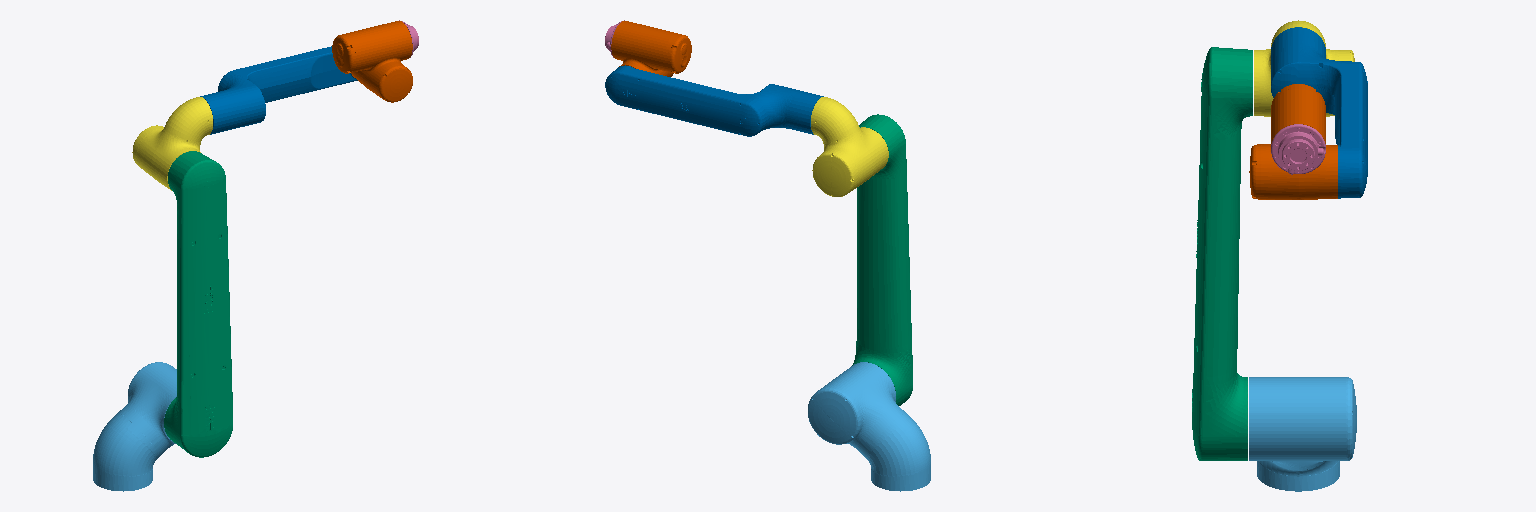
robot.urdf — CRB15000_10kg-152:
<?xml version="1.0" ?>
<robot name="CRB15000_10kg-152">

<link name="base_link">
  <inertial>
    <origin xyz="-0.0011656606666003504 -0.00011127786600189595 0.0985691713362607" rpy="0 0 0"/>
    <mass value="43.321834194728716"/>
    <inertia ixx="0.254824" iyy="0.26074" izz="0.191484" ixy="-0.000567" iyz="-0.000372" ixz="-0.003894"/>
  </inertial>
  <visual>
    <origin xyz="0 0 0" rpy="0 0 0"/>
    <geometry>
      <mesh filename="package://CRB15000_10kg-152_description/meshes/base_link.stl" scale="0.001 0.001 0.001"/>
    </geometry>
    <material name="silver"/>
  </visual>
  <collision>
    <origin xyz="0 0 0" rpy="0 0 0"/>
    <geometry>
      <mesh filename="package://CRB15000_10kg-152_description/meshes/base_link.stl" scale="0.001 0.001 0.001"/>
    </geometry>
  </collision>
</link>

<link name="link_1_1">
  <inertial>
    <origin xyz="0.08775396256753097 0.0028936166670680574 0.13782832227067018" rpy="0 0 0"/>
    <mass value="62.519803241843114"/>
    <inertia ixx="0.432284" iyy="0.648762" izz="0.530762" ixy="-0.011248" iyz="-0.008525" ixz="-0.212957"/>
  </inertial>
  <visual>
    <origin xyz="0.0 -0.0 -0.215" rpy="0 0 0"/>
    <geometry>
      <mesh filename="package://CRB15000_10kg-152_description/meshes/link_1_1.stl" scale="0.001 0.001 0.001"/>
    </geometry>
    <material name="silver"/>
  </visual>
  <collision>
    <origin xyz="0.0 -0.0 -0.215" rpy="0 0 0"/>
    <geometry>
      <mesh filename="package://CRB15000_10kg-152_description/meshes/link_1_1.stl" scale="0.001 0.001 0.001"/>
    </geometry>
  </collision>
</link>

<link name="link_2_1">
  <inertial>
    <origin xyz="2.8584459371705506e-07 -0.0543214282069112 0.31993968763231195" rpy="0 0 0"/>
    <mass value="70.93354798589783"/>
    <inertia ixx="4.564667" iyy="4.624738" izz="0.149368" ixy="0.0" iyz="-0.067787" ixz="1e-06"/>
  </inertial>
  <visual>
    <origin xyz="-0.15 0.09615 -0.400014" rpy="0 0 0"/>
    <geometry>
      <mesh filename="package://CRB15000_10kg-152_description/meshes/link_2_1.stl" scale="0.001 0.001 0.001"/>
    </geometry>
    <material name="silver"/>
  </visual>
  <collision>
    <origin xyz="-0.15 0.09615 -0.400014" rpy="0 0 0"/>
    <geometry>
      <mesh filename="package://CRB15000_10kg-152_description/meshes/link_2_1.stl" scale="0.001 0.001 0.001"/>
    </geometry>
  </collision>
</link>

<link name="link_3_1">
  <inertial>
    <origin xyz="0.012899148223606716 0.09273704088636267 0.024906939924447702" rpy="0 0 0"/>
    <mass value="26.381731962599385"/>
    <inertia ixx="0.135785" iyy="0.109627" izz="0.102204" ixy="0.002633" iyz="0.005085" ixz="-0.02496"/>
  </inertial>
  <visual>
    <origin xyz="-0.15 0.085 -1.107" rpy="0 0 0"/>
    <geometry>
      <mesh filename="package://CRB15000_10kg-152_description/meshes/link_3_1.stl" scale="0.001 0.001 0.001"/>
    </geometry>
    <material name="silver"/>
  </visual>
  <collision>
    <origin xyz="-0.15 0.085 -1.107" rpy="0 0 0"/>
    <geometry>
      <mesh filename="package://CRB15000_10kg-152_description/meshes/link_3_1.stl" scale="0.001 0.001 0.001"/>
    </geometry>
  </collision>
</link>

<link name="link_4_1">
  <inertial>
    <origin xyz="0.24242614990615624 0.06277136599398273 6.636508358415227e-07" rpy="0 0 0"/>
    <mass value="32.073735291819936"/>
    <inertia ixx="0.109076" iyy="0.893804" izz="0.956571" ixy="-0.193211" iyz="2e-06" ixz="1.3e-05"/>
  </inertial>
  <visual>
    <origin xyz="-0.246 0.0 -1.217" rpy="0 0 0"/>
    <geometry>
      <mesh filename="package://CRB15000_10kg-152_description/meshes/link_4_1.stl" scale="0.001 0.001 0.001"/>
    </geometry>
    <material name="silver"/>
  </visual>
  <collision>
    <origin xyz="-0.246 0.0 -1.217" rpy="0 0 0"/>
    <geometry>
      <mesh filename="package://CRB15000_10kg-152_description/meshes/link_4_1.stl" scale="0.001 0.001 0.001"/>
    </geometry>
  </collision>
</link>

<link name="link_5_1">
  <inertial>
    <origin xyz="-0.01459775541258479 -0.07956678438355705 0.04275435393134619" rpy="0 0 0"/>
    <mass value="23.637549891653943"/>
    <inertia ixx="0.089959" iyy="0.106455" izz="0.085161" ixy="0.001414" iyz="-0.004125" ixz="0.012973"/>
  </inertial>
  <visual>
    <origin xyz="-0.786883 -0.0755 -1.217" rpy="0 0 0"/>
    <geometry>
      <mesh filename="package://CRB15000_10kg-152_description/meshes/link_5_1.stl" scale="0.001 0.001 0.001"/>
    </geometry>
    <material name="silver"/>
  </visual>
  <collision>
    <origin xyz="-0.786883 -0.0755 -1.217" rpy="0 0 0"/>
    <geometry>
      <mesh filename="package://CRB15000_10kg-152_description/meshes/link_5_1.stl" scale="0.001 0.001 0.001"/>
    </geometry>
  </collision>
</link>

<link name="link_6_1">
  <inertial>
    <origin xyz="0.013150737690741043 0.00023981661745750953 -0.00034190626182106776" rpy="0 0 0"/>
    <mass value="1.1500367477208804"/>
    <inertia ixx="0.001012" iyy="0.000597" izz="0.0006" ixy="-1e-06" iyz="-5e-06" ixz="1e-06"/>
  </inertial>
  <visual>
    <origin xyz="-0.855 -0.0 -1.297" rpy="0 0 0"/>
    <geometry>
      <mesh filename="package://CRB15000_10kg-152_description/meshes/link_6_1.stl" scale="0.001 0.001 0.001"/>
    </geometry>
    <material name="silver"/>
  </visual>
  <collision>
    <origin xyz="-0.855 -0.0 -1.297" rpy="0 0 0"/>
    <geometry>
      <mesh filename="package://CRB15000_10kg-152_description/meshes/link_6_1.stl" scale="0.001 0.001 0.001"/>
    </geometry>
  </collision>
</link>

<joint name="j1" type="continuous">
  <origin xyz="0.0 0.0 0.215" rpy="0 0 0"/>
  <parent link="base_link"/>
  <child link="link_1_1"/>
  <axis xyz="0.0 0.0 -1.0"/>
</joint>

<joint name="j2" type="continuous">
  <origin xyz="0.15 -0.09615 0.185014" rpy="0 0 0"/>
  <parent link="link_1_1"/>
  <child link="link_2_1"/>
  <axis xyz="0.0 1.0 0.0"/>
</joint>

<joint name="j3" type="continuous">
  <origin xyz="0.0 0.01115 0.706986" rpy="0 0 0"/>
  <parent link="link_2_1"/>
  <child link="link_3_1"/>
  <axis xyz="0.0 -1.0 0.0"/>
</joint>

<joint name="j4" type="continuous">
  <origin xyz="0.096 0.085 0.11" rpy="0 0 0"/>
  <parent link="link_3_1"/>
  <child link="link_4_1"/>
  <axis xyz="1.0 0.0 0.0"/>
</joint>

<joint name="j5" type="continuous">
  <origin xyz="0.540883 0.0755 0.0" rpy="0 0 0"/>
  <parent link="link_4_1"/>
  <child link="link_5_1"/>
  <axis xyz="0.0 -1.0 0.0"/>
</joint>

<joint name="j6" type="continuous">
  <origin xyz="0.068117 -0.0755 0.08" rpy="0 0 0"/>
  <parent link="link_5_1"/>
  <child link="link_6_1"/>
  <axis xyz="1.0 0.0 0.0"/>
</joint>

</robot>

--- Facts derived from the render (not from the file) ---
Views: 3 orthographic renders of the robot side by side, from view 1: azimuth 30°, elevation 25°; view 2: azimuth 150°, elevation 25°; view 3: azimuth 270°, elevation 25°.
Robot: CRB15000_10kg-152 — 7 links, 6 joints (6 continuous); root link base_link; default pose: every joint at zero.
Visible links, largest first — view 1: link_2_1, link_1_1, link_4_1, link_5_1, link_3_1; view 2: link_2_1, link_1_1, link_4_1, link_3_1, link_5_1; view 3: link_2_1, link_1_1, link_4_1, link_5_1, link_6_1, link_3_1.
Link boxes in pixels (x1=…): link_2_1: x1=164, y1=151, x2=232, y2=457; link_1_1: x1=93, y1=362, x2=176, y2=491; link_4_1: x1=200, y1=46, x2=357, y2=134; link_5_1: x1=332, y1=21, x2=412, y2=102; link_3_1: x1=132, y1=97, x2=212, y2=190; link_2_1: x1=852, y1=114, x2=912, y2=405; link_1_1: x1=808, y1=362, x2=930, y2=491; link_4_1: x1=605, y1=65, x2=823, y2=136; link_3_1: x1=811, y1=97, x2=888, y2=196; link_5_1: x1=611, y1=21, x2=691, y2=76; link_2_1: x1=1192, y1=47, x2=1252, y2=460; link_1_1: x1=1249, y1=377, x2=1356, y2=491; link_4_1: x1=1271, y1=27, x2=1367, y2=198; link_5_1: x1=1249, y1=84, x2=1337, y2=199; link_6_1: x1=1271, y1=124, x2=1325, y2=174; link_3_1: x1=1254, y1=20, x2=1354, y2=116.
Size in the robot's own frame: 0.968 by 0.3367 by 1.13 metres.
Meshes: 7 distinct files referenced, 6 mesh visuals loaded (6 binary STL); not drawn: 1 (reference not matched to a file when rendering).